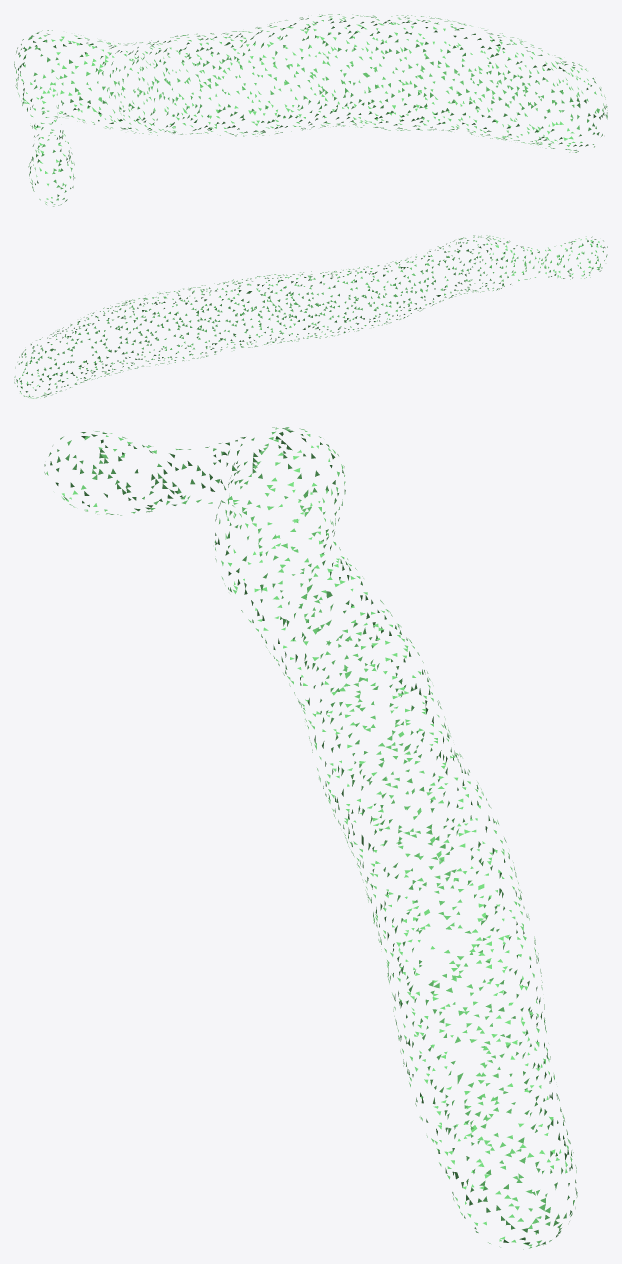
The model's file is morph_018.glb.
3 views of the same model, one above another, from view 1: azimuth 30°, elevation 25°; view 2: azimuth 150°, elevation 25°; view 3: azimuth 270°, elevation 25° (orthographic). The views are drawn at different scales.
Size of the model in its own units: 124 by 53.25 by 60.54.
